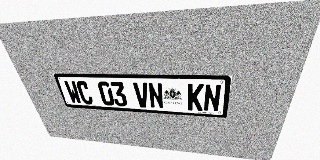0: (97, 81, 115, 106)
3: (110, 82, 128, 107)
C: (75, 81, 94, 105)
K: (188, 83, 204, 111)
N: (203, 84, 222, 112), (147, 83, 164, 109)
V: (133, 82, 150, 108)
W: (63, 81, 83, 104)
